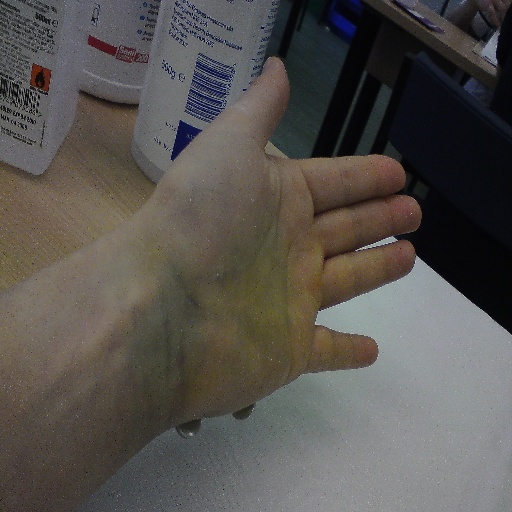hand: (181, 57, 420, 418)
